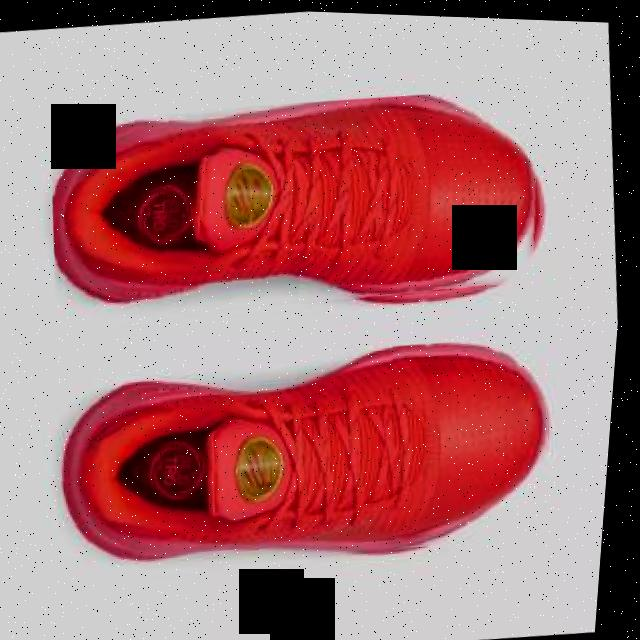shoe: (47, 316, 573, 587), (40, 68, 562, 340)
